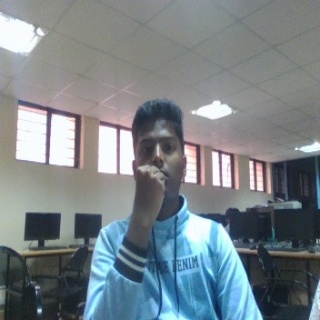Food: (130, 163, 167, 244)
